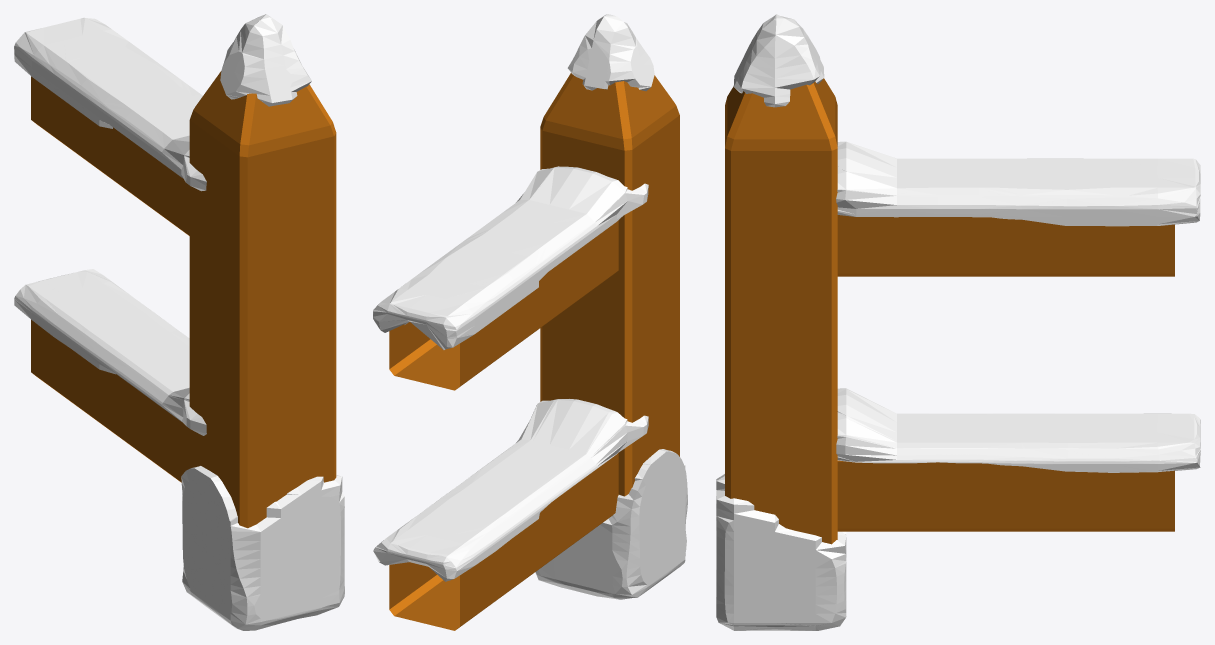
The model's file is FenceWSnow_02.obj.
The picture shows the model from 3 angles, left to right: view 1: azimuth 30°, elevation 25°; view 2: azimuth 150°, elevation 25°; view 3: azimuth 270°, elevation 25°; orthographic projection. The views are drawn at different scales.
Visible parts, largest first — view 1: FenceWSnow_02_Cube.001; view 2: FenceWSnow_02_Cube.001; view 3: FenceWSnow_02_Cube.001.
Boxes of the visible parts, x1,y1,x2,y2 form: FenceWSnow_02_Cube.001: (14, 14, 344, 630); FenceWSnow_02_Cube.001: (373, 14, 687, 630); FenceWSnow_02_Cube.001: (716, 14, 1200, 630).
Bounding box in the file's own units: 0.3787 × 1.9 × 1.41.
